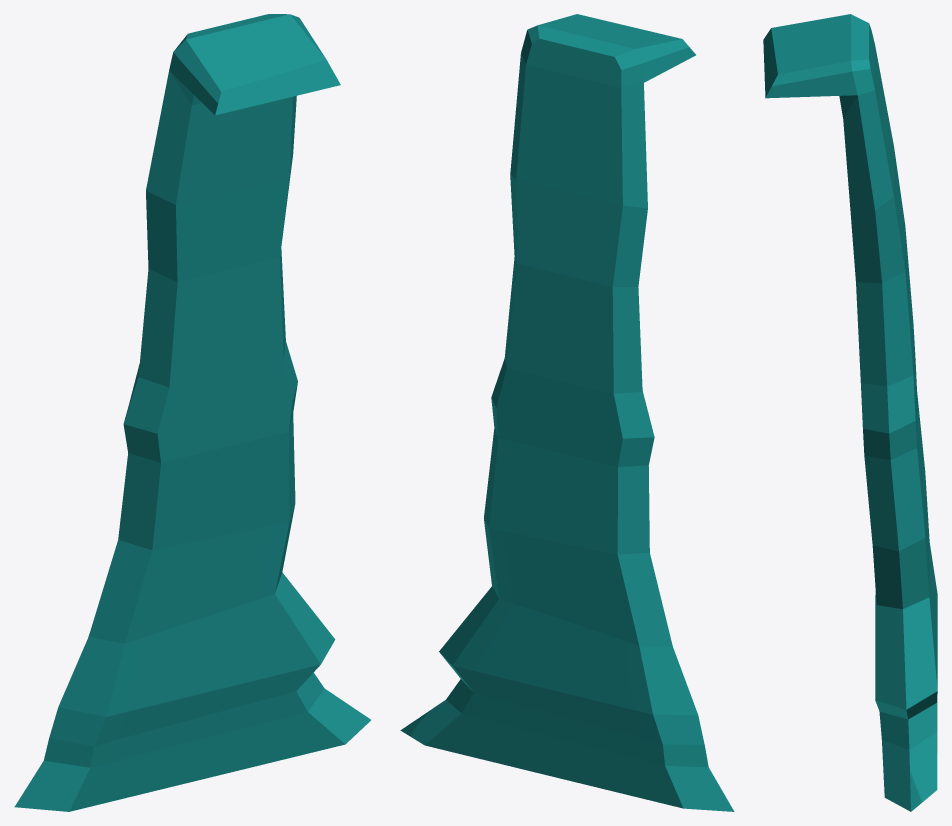
The model's file is CascadaAnimada_000011.obj.
3 renders of one model, left to right at view 1: azimuth 30°, elevation 25°; view 2: azimuth 150°, elevation 25°; view 3: azimuth 270°, elevation 25°, orthographic. The views are drawn at different scales.
Parts seen in each view (by area): view 1: Cube.053, Cube.054; view 2: Cube.053, Cube.054; view 3: Cube.053, Cube.054.
Part boxes in pixels (left/top/right/bottom): Cube.053: left=14, top=14, right=370, bottom=811; Cube.054: left=169, top=14, right=340, bottom=115; Cube.053: left=400, top=25, right=734, bottom=811; Cube.054: left=538, top=14, right=695, bottom=82; Cube.053: left=839, top=14, right=937, bottom=811; Cube.054: left=763, top=14, right=857, bottom=98.
Bounding box in the file's own units: 136 × 277 × 62.31.
